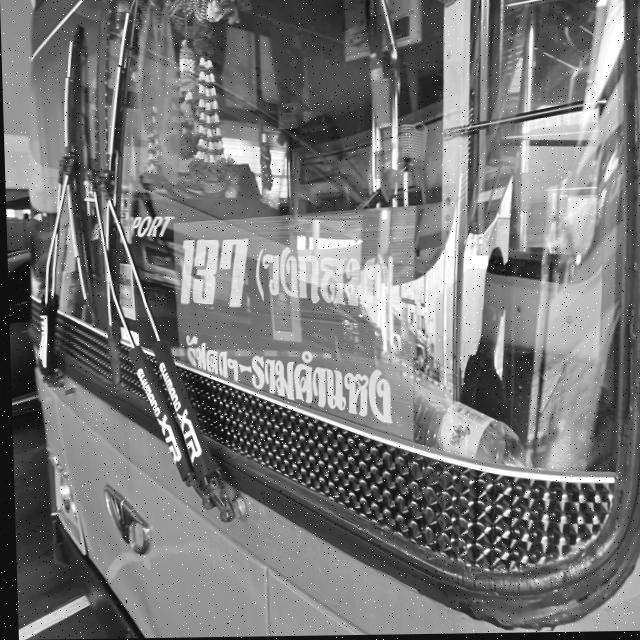Destination Sign: (173, 207, 414, 442)
